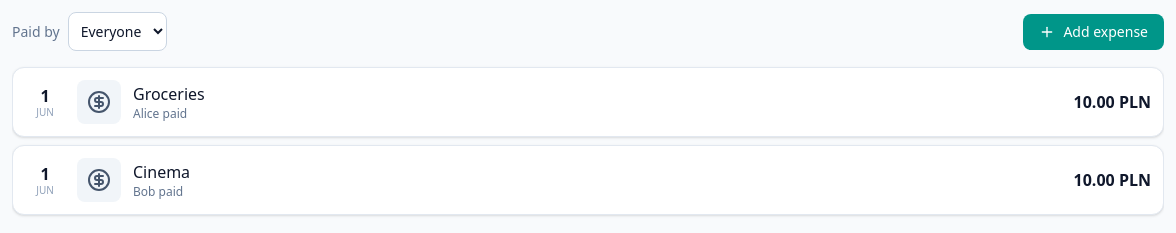
Test: ExpensesTab — filter by payer › requests only the selected member's expenses
Expected: the text "Groceries" is shown, [133,83,205,105]
Select "Bob" in the dropdown labelled "Paid by" at (117, 32), box [68,12,167,51]
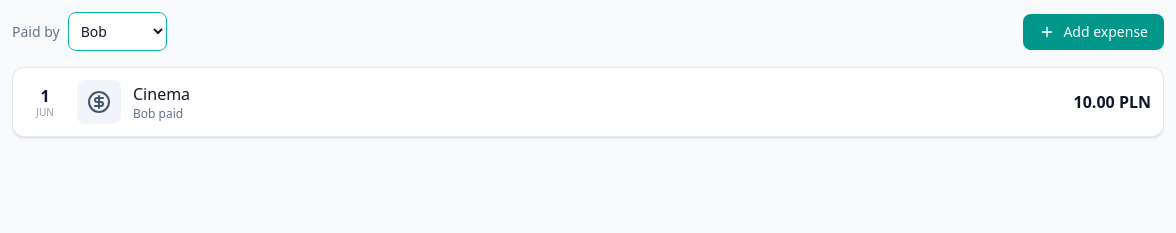
Expected: the text "Cinema" is shown, [133,83,190,105]
Expected: the button "Groceries" is gone
